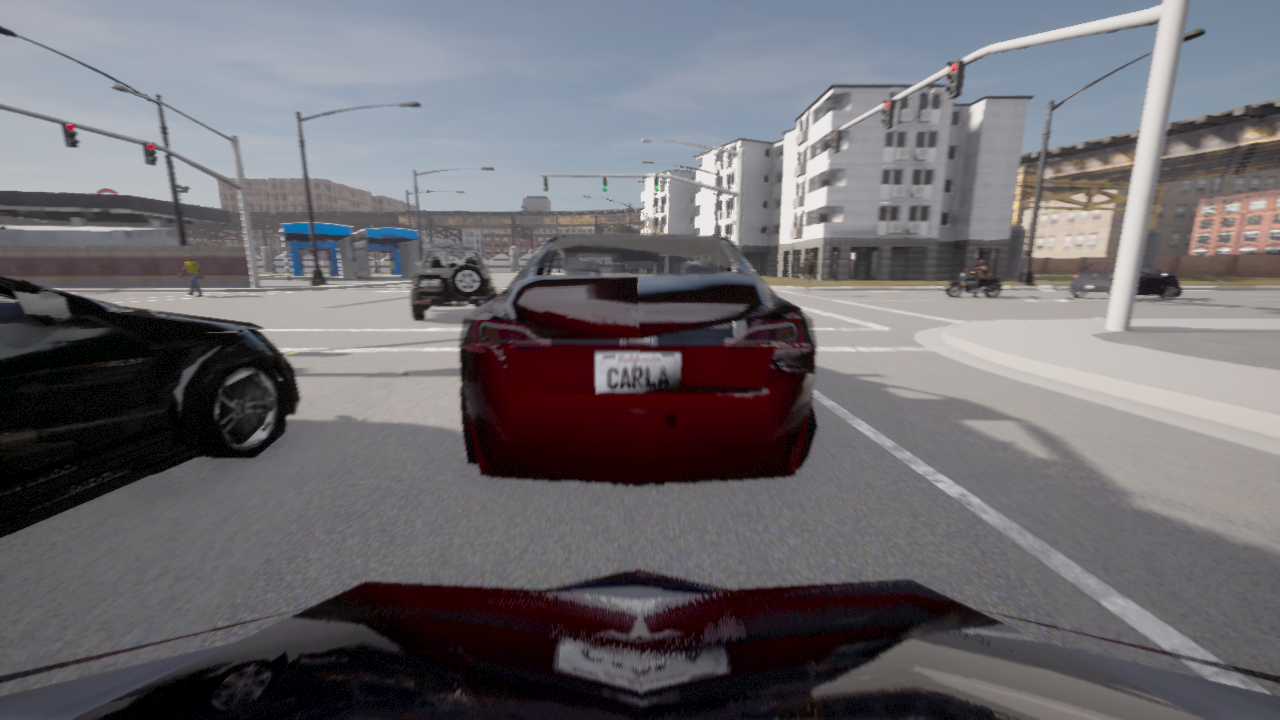cyclist: (0, 569, 1279, 719), (458, 232, 817, 485), (411, 244, 496, 319), (1070, 261, 1181, 299), (944, 267, 1002, 297)
pedestrian: (179, 255, 202, 296), (801, 254, 817, 295)
